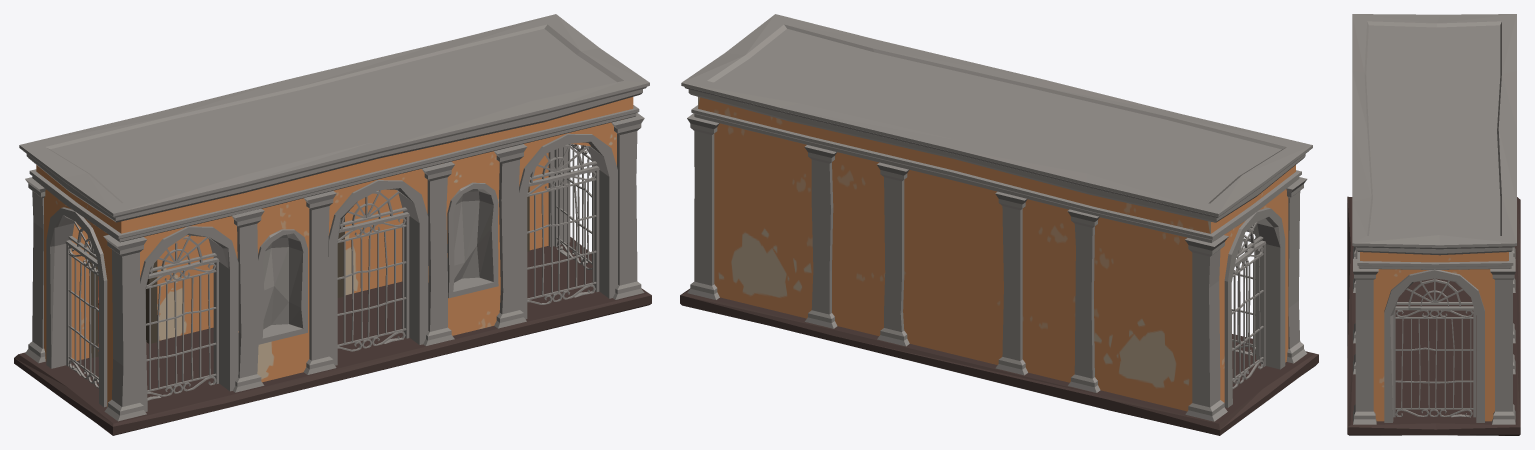
File: SM_Bld_Cuba_Hall_Room_04.glb
3 renders of one model, left to right at view 1: azimuth 30°, elevation 25°; view 2: azimuth 150°, elevation 25°; view 3: azimuth 270°, elevation 25°, orthographic. The views are drawn at different scales.
Parts seen in each view (by area): view 1: SM_Bld_Cuba_Hall_Room_04_part00; view 2: SM_Bld_Cuba_Hall_Room_04_part00; view 3: SM_Bld_Cuba_Hall_Room_04_part00.
Boxes of the visible parts, x1,y1,x2,y2 form: SM_Bld_Cuba_Hall_Room_04_part00: (14,14,651,435); SM_Bld_Cuba_Hall_Room_04_part00: (680,14,1318,435); SM_Bld_Cuba_Hall_Room_04_part00: (1347,14,1520,435).
Bounding box in the file's own units: 11.32 × 4.42 × 3.59.
Materials: 1 (1 with a texture image).
